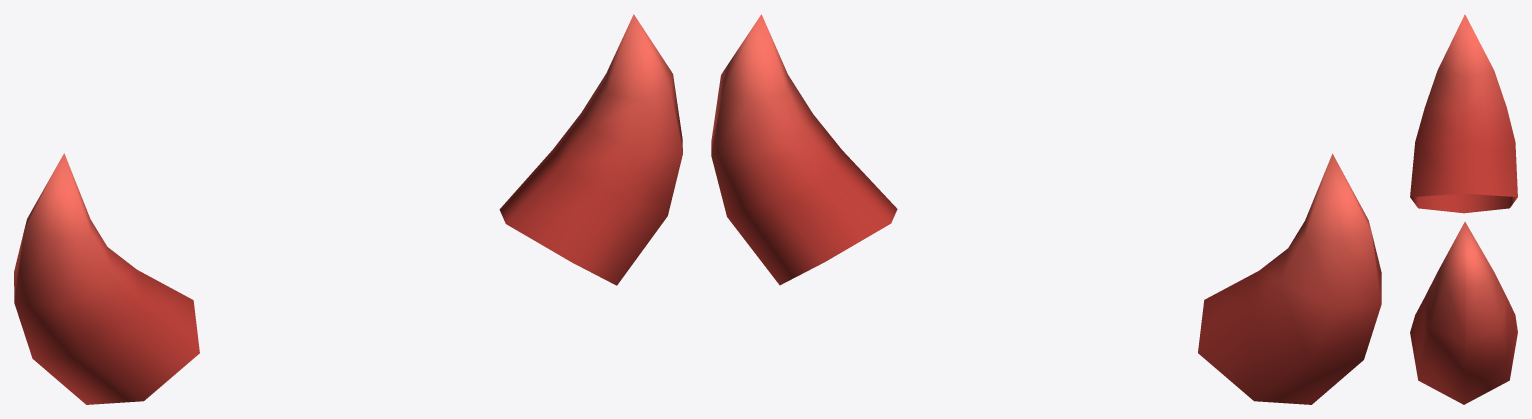
Rendered from acc_hatHorn.FBX.
3 views of the same model, side by side, from view 1: azimuth 30°, elevation 25°; view 2: azimuth 150°, elevation 25°; view 3: azimuth 270°, elevation 25° (orthographic). The views are drawn at different scales.
Parts seen in each view (by area): view 1: acc_hat_horn; view 2: acc_hat_horn; view 3: acc_hat_horn.
Boxes of the visible parts, x1,y1,x2,y2 form: acc_hat_horn: (14,14,682,404); acc_hat_horn: (711,14,1381,404); acc_hat_horn: (1410,14,1517,404).
Bounding box in the file's own units: 96.95 × 35.58 × 18.18.
